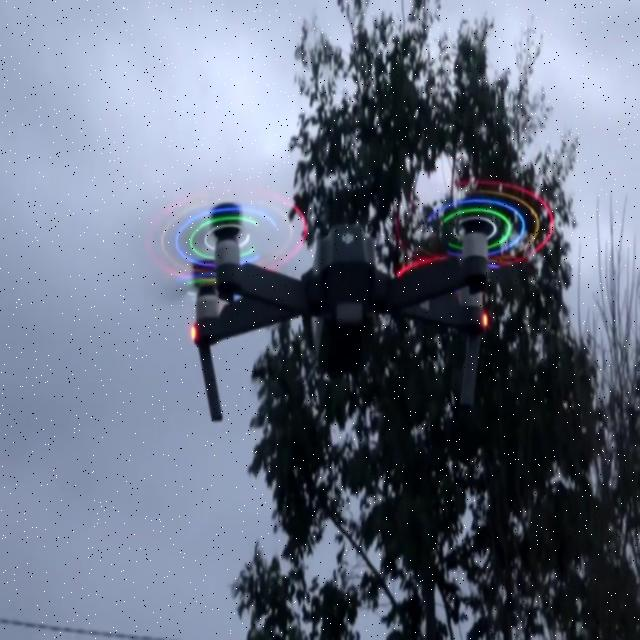UAV: (146, 179, 554, 424)
